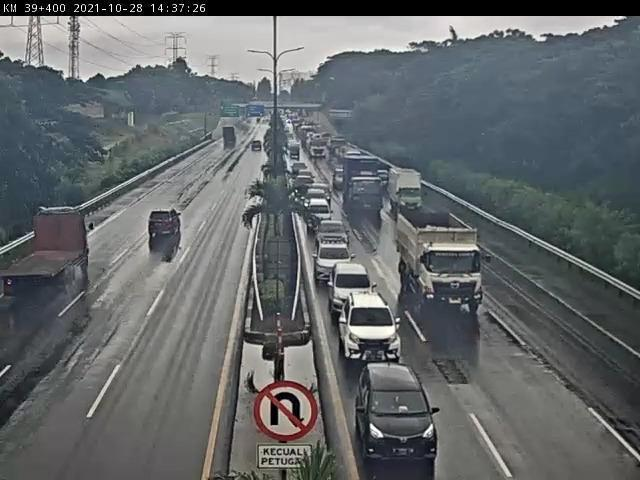car: (356, 363, 443, 461), (339, 295, 403, 368), (331, 263, 379, 323), (311, 238, 357, 285), (315, 220, 353, 255), (147, 207, 183, 240), (305, 199, 334, 235)
truck: (396, 207, 494, 312), (2, 206, 97, 297), (345, 156, 387, 219), (387, 168, 425, 212)
